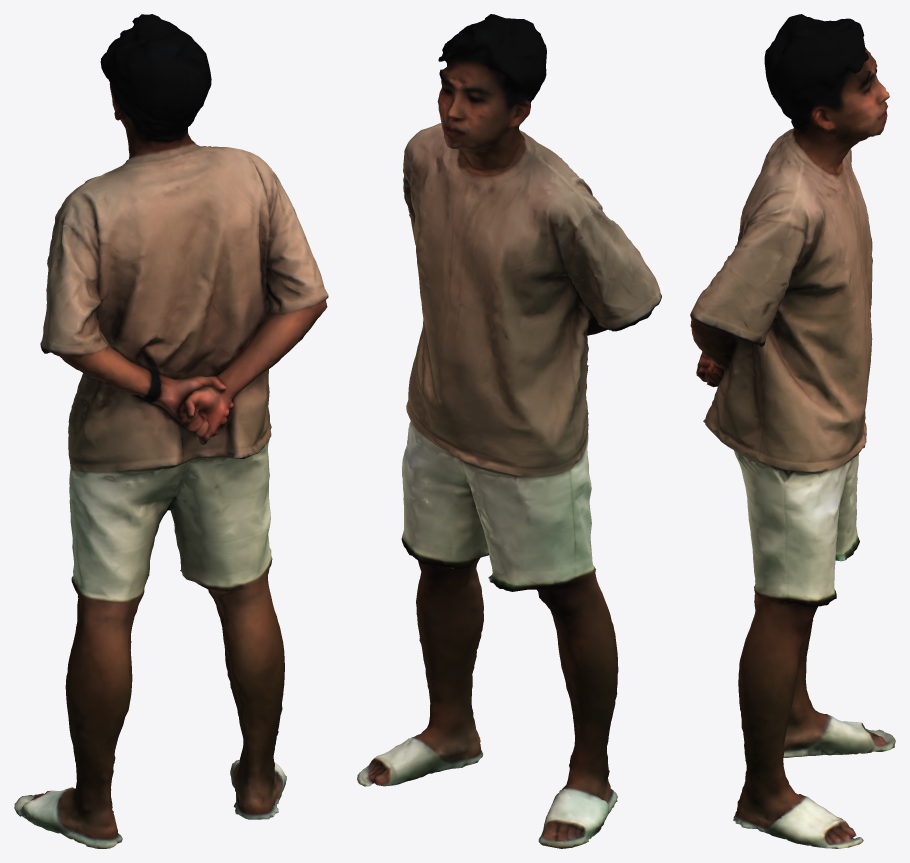
The model's file is char_1.glb.
3 views of the same model, side by side, from view 1: azimuth 30°, elevation 25°; view 2: azimuth 150°, elevation 25°; view 3: azimuth 270°, elevation 25° (orthographic).
Visible parts, largest first — view 1: mesh_frame_2; view 2: mesh_frame_2; view 3: mesh_frame_2.
Boxes of the visible parts, x1,y1,x2,y2 form: mesh_frame_2: (14,14,328,848); mesh_frame_2: (357,14,661,848); mesh_frame_2: (690,14,895,848).
Bounding box in the file's own units: 0.6004 × 1.7 × 0.4121.
Materials: 1 (1 with a texture image).
